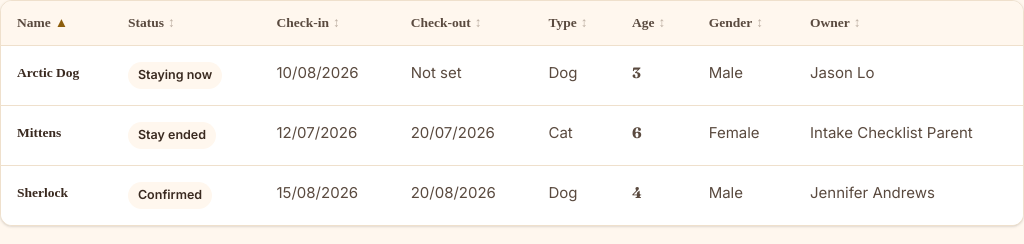
Test: PetTable sorting › toggles the active column to descending, then back to ascending
Click the button "Name ▲" at (43, 23), box [17,13,68,33]
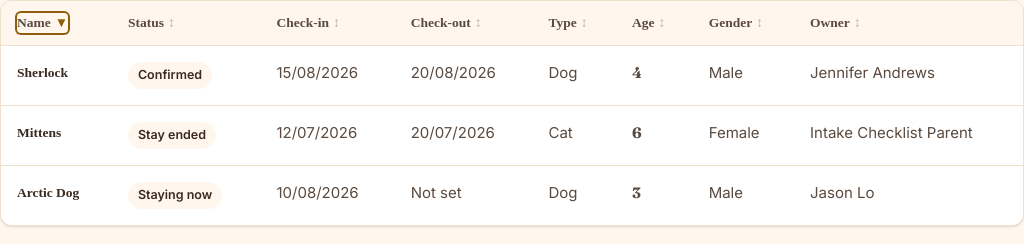
expect the column heading "Name" has attribute aria-sort="descending": met, box [1,1,112,46]
Click the button "Name ▼" at (43, 23), box [17,13,68,33]
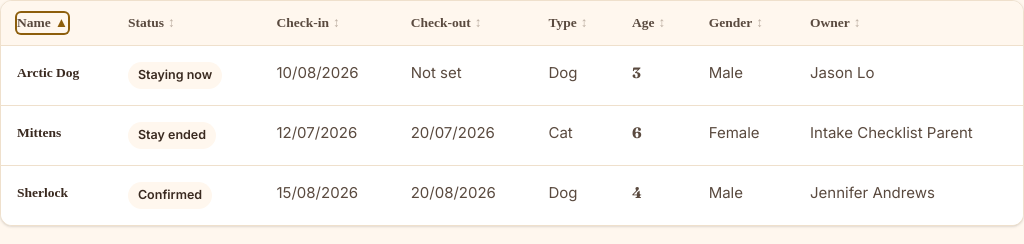
expect the column heading "Name" has attribute aria-sort="ascending": met, box [1,1,112,46]
